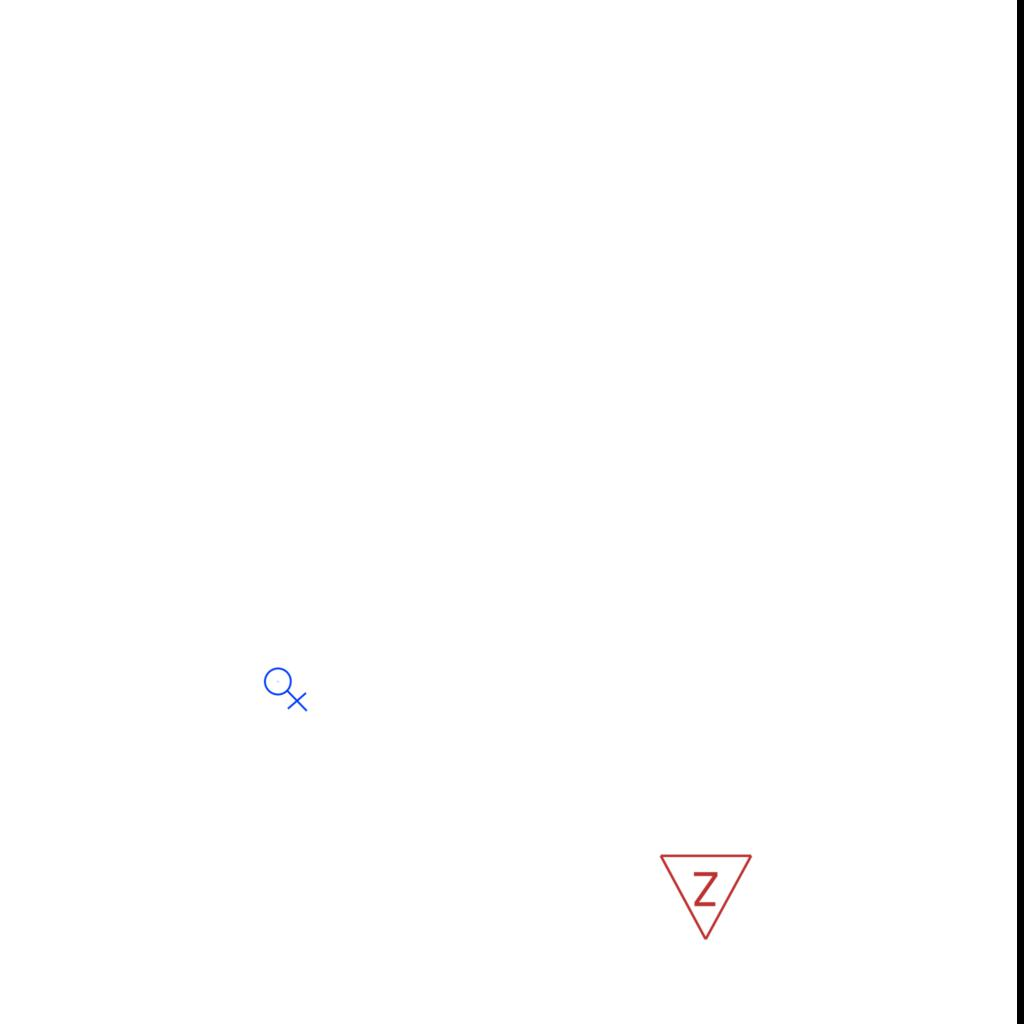Elektroanschluss_allgemein_230V_Geraeteanschlussdose_230V: (263, 663, 310, 712)
Zimmersignalleuchte: (658, 847, 756, 947)
